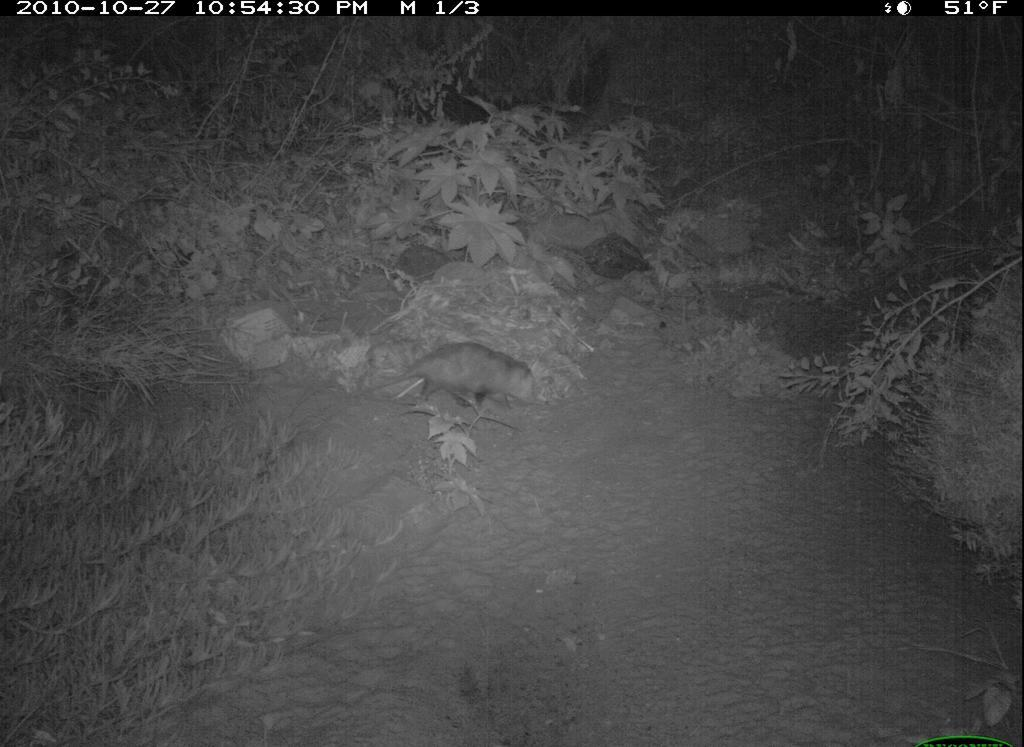opossum: (393, 324, 545, 437)
